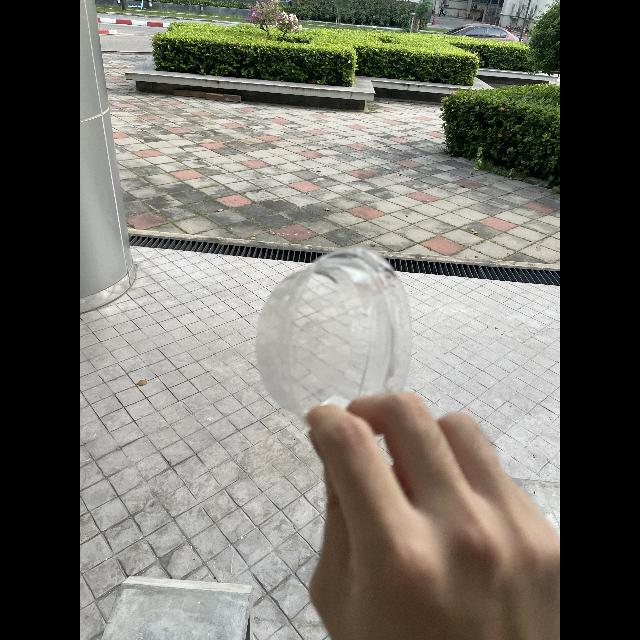plastic_cup_lid: (247, 247, 417, 443)
